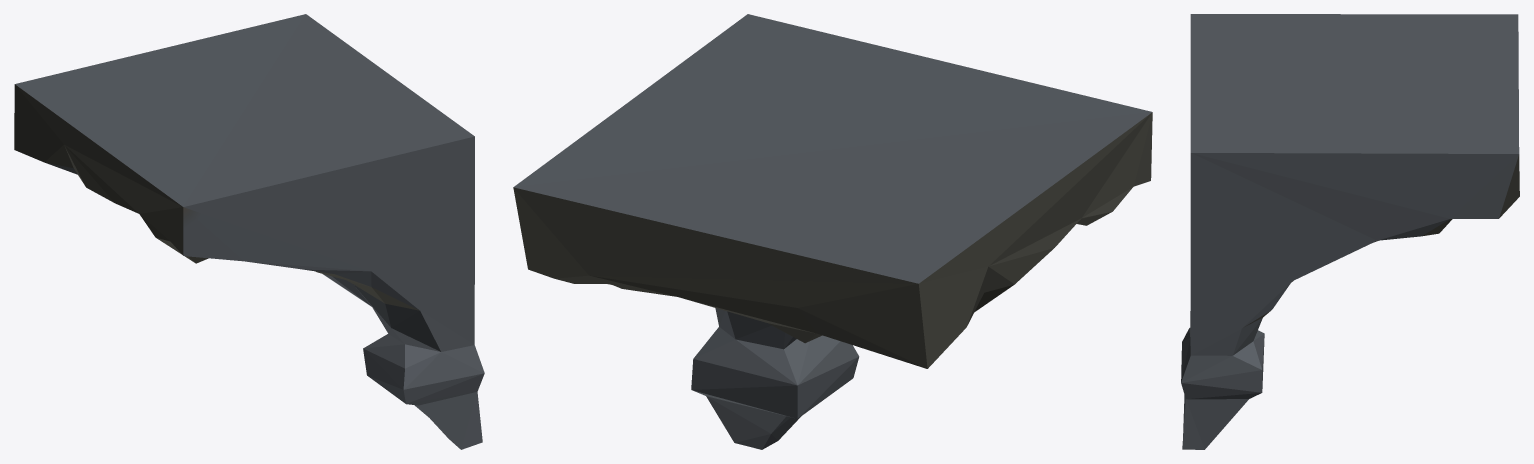
File: MCastle_MasonryFixtures_06.FBX
3 views of the same model, side by side, from view 1: azimuth 30°, elevation 25°; view 2: azimuth 150°, elevation 25°; view 3: azimuth 270°, elevation 25° (orthographic). The views are drawn at different scales.
Parts seen in each view (by area): view 1: MCastle_MasonryFixtures_06_LOD0; view 2: MCastle_MasonryFixtures_06_LOD0; view 3: MCastle_MasonryFixtures_06_LOD0.
Boxes of the visible parts, bbox=[...] form: MCastle_MasonryFixtures_06_LOD0: bbox=[14, 14, 484, 449]; MCastle_MasonryFixtures_06_LOD0: bbox=[513, 14, 1152, 449]; MCastle_MasonryFixtures_06_LOD0: bbox=[1181, 14, 1519, 449].
Size of what is drawn, in the model's own units: 2.58 by 2.52 by 2.6.
